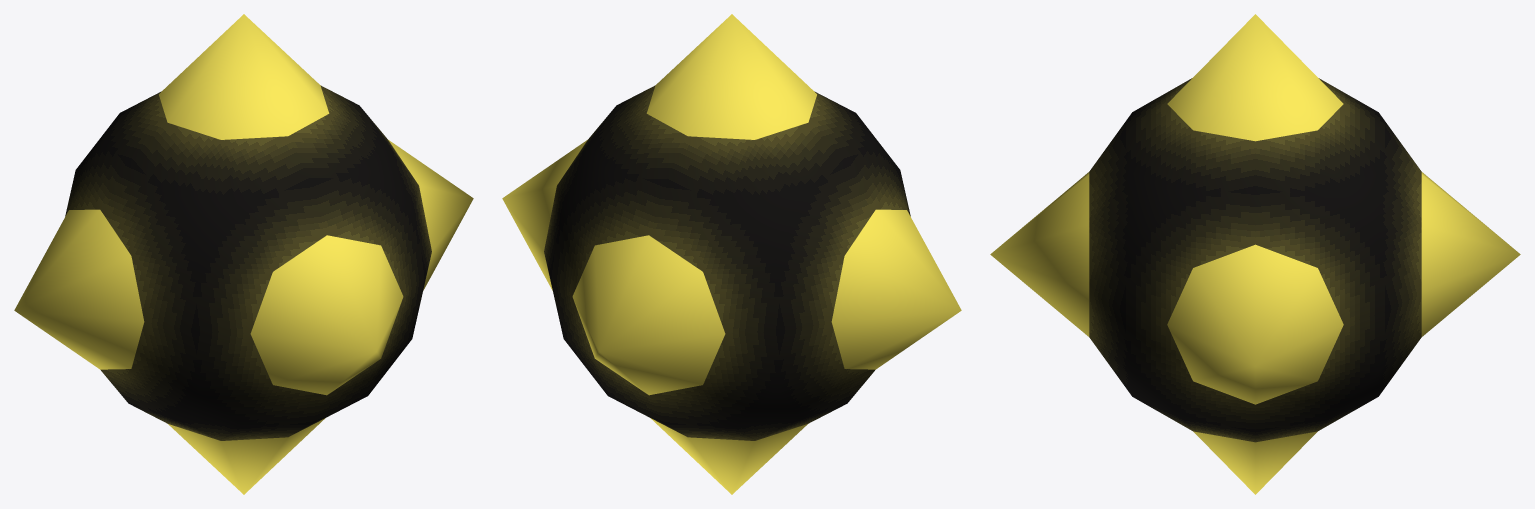
The model's file is Yellow Spike Ball.gltf.
The picture shows the model from 3 angles, left to right: view 1: azimuth 30°, elevation 25°; view 2: azimuth 150°, elevation 25°; view 3: azimuth 270°, elevation 25°; orthographic projection.
Visible parts, largest first — view 1: part0; view 2: part0; view 3: part0.
Boxes of the visible parts, box(x1,y1,x2,y2) form: part0: box(14, 14, 473, 494); part0: box(502, 14, 961, 494); part0: box(990, 14, 1520, 494).
Size of the model in its own units: 11.68 by 11.68 by 11.68.
1 material, 1 textured.
